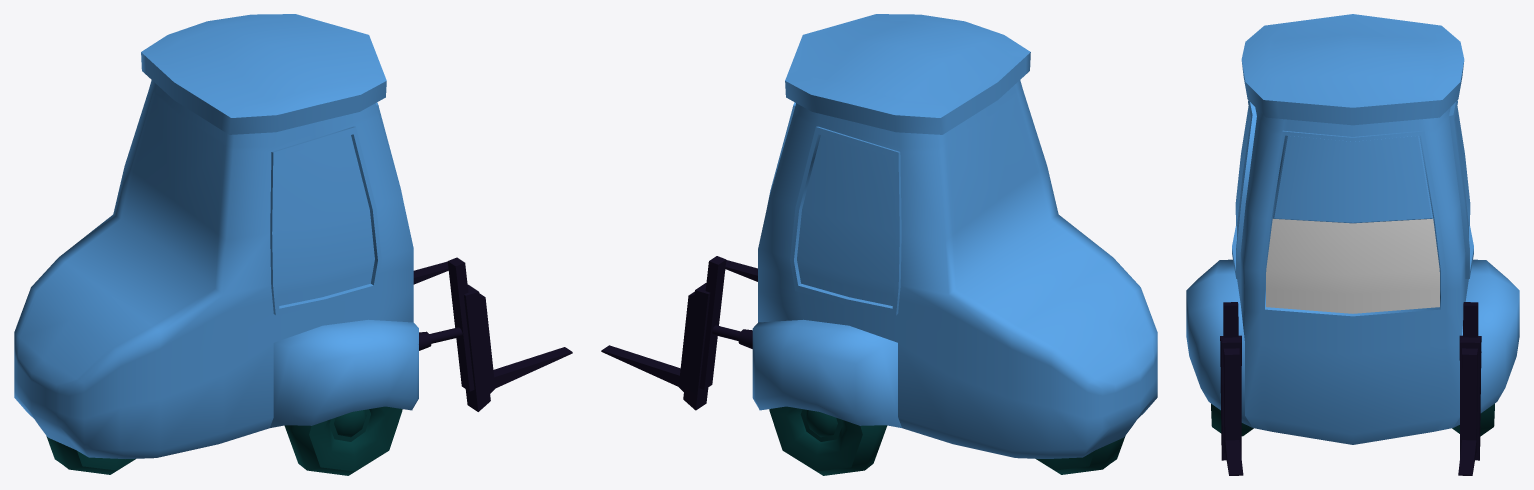
File: SM_Guido_low.fbx
The picture shows the model from 3 angles, left to right: view 1: azimuth 30°, elevation 25°; view 2: azimuth 150°, elevation 25°; view 3: azimuth 270°, elevation 25°; orthographic projection.
Parts seen in each view (by area): view 1: SM_GuidoBase_low, SM_GuidoMainDroite_low, SM_GuidoRoueDroite_low, SM_GuidoRoueArriere_low.001; view 2: SM_GuidoBase_low, SM_GuidoMainGauche_low, SM_GuidoRoueGauche_low, SM_GuidoRoueArriere_low.001; view 3: SM_GuidoBase_low, SM_GuidoMainDroite_low, SM_GuidoMainGauche_low, SM_GuidoRoueGauche_low, SM_GuidoRoueDroite_low.
Part boxes in pixels (<box>): SM_GuidoBase_low: <box>14,14,462,458</box>; SM_GuidoMainDroite_low: <box>447,257,572,411</box>; SM_GuidoRoueDroite_low: <box>284,406,402,475</box>; SM_GuidoRoueArriere_low.001: <box>46,436,135,474</box>; SM_GuidoBase_low: <box>712,14,1157,458</box>; SM_GuidoMainGauche_low: <box>601,256,726,410</box>; SM_GuidoRoueGauche_low: <box>769,406,887,475</box>; SM_GuidoRoueArriere_low.001: <box>1035,436,1125,474</box>; SM_GuidoBase_low: <box>1186,14,1519,444</box>; SM_GuidoMainDroite_low: <box>1220,302,1243,475</box>; SM_GuidoMainGauche_low: <box>1458,302,1481,475</box>; SM_GuidoRoueGauche_low: <box>1452,403,1494,436</box>; SM_GuidoRoueDroite_low: <box>1211,403,1253,436</box>.
Bounding box in the file's own units: 126 × 96.42 × 77.24.
